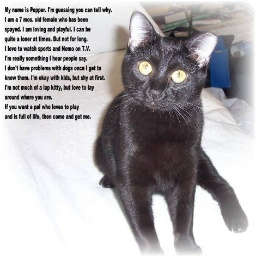cat: (89, 11, 248, 256)
